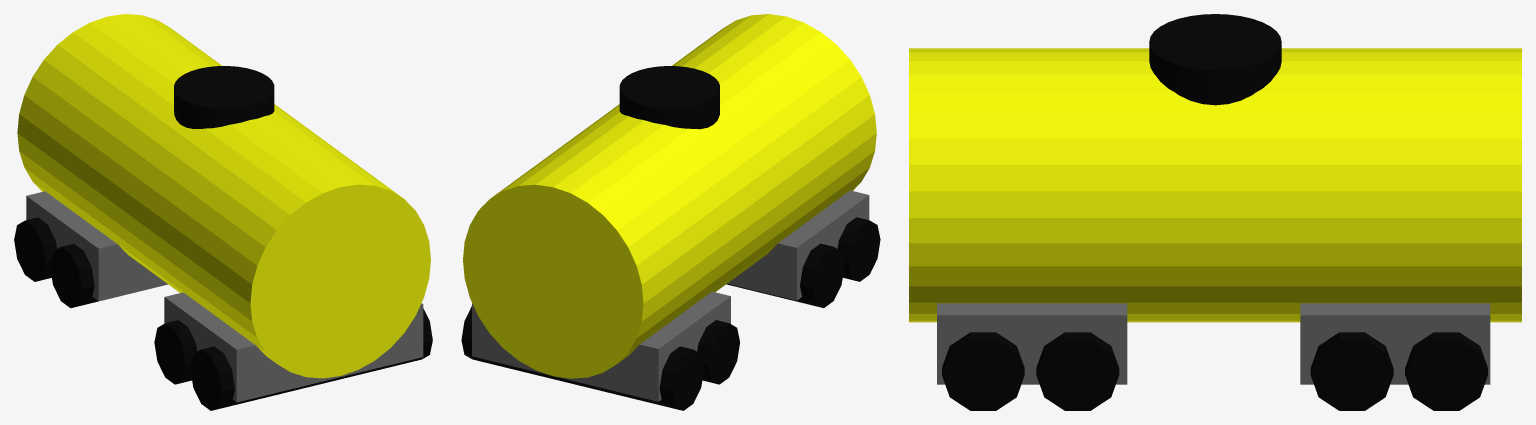
The model's file is TankCar.glb.
The picture shows the model from 3 angles, left to right: view 1: azimuth 30°, elevation 25°; view 2: azimuth 150°, elevation 25°; view 3: azimuth 270°, elevation 25°; orthographic projection. The views are drawn at different scales.
Parts seen in each view (by area): view 1: Tankicar; view 2: Tankicar; view 3: Tankicar.
Part boxes in pixels (x1,y1,x2,y2): Tankicar: (14, 14, 432, 410); Tankicar: (461, 14, 880, 410); Tankicar: (909, 14, 1521, 410).
Bounding box in the file's own units: 2.26 × 2.35 × 4.33.
